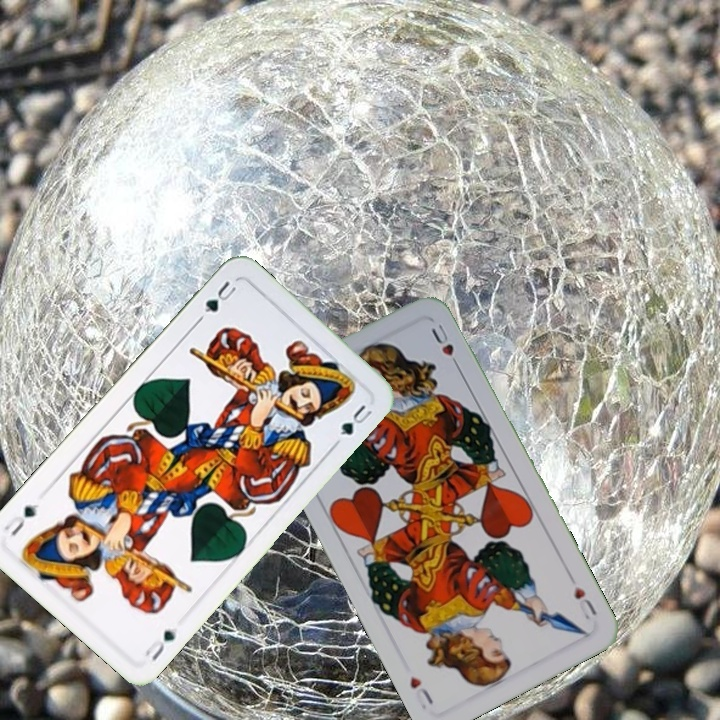GU: (140, 623, 181, 664), (200, 276, 241, 315)
HU: (570, 582, 600, 623)
